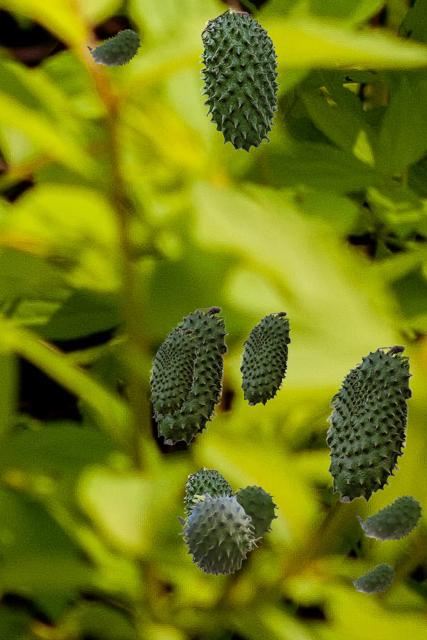guyabano: (325, 344, 412, 502), (198, 7, 280, 152), (151, 306, 227, 444), (178, 491, 261, 575), (177, 485, 277, 552), (239, 311, 290, 405), (149, 329, 196, 416), (356, 495, 422, 542), (183, 466, 234, 522), (87, 29, 140, 67), (350, 563, 394, 594)
